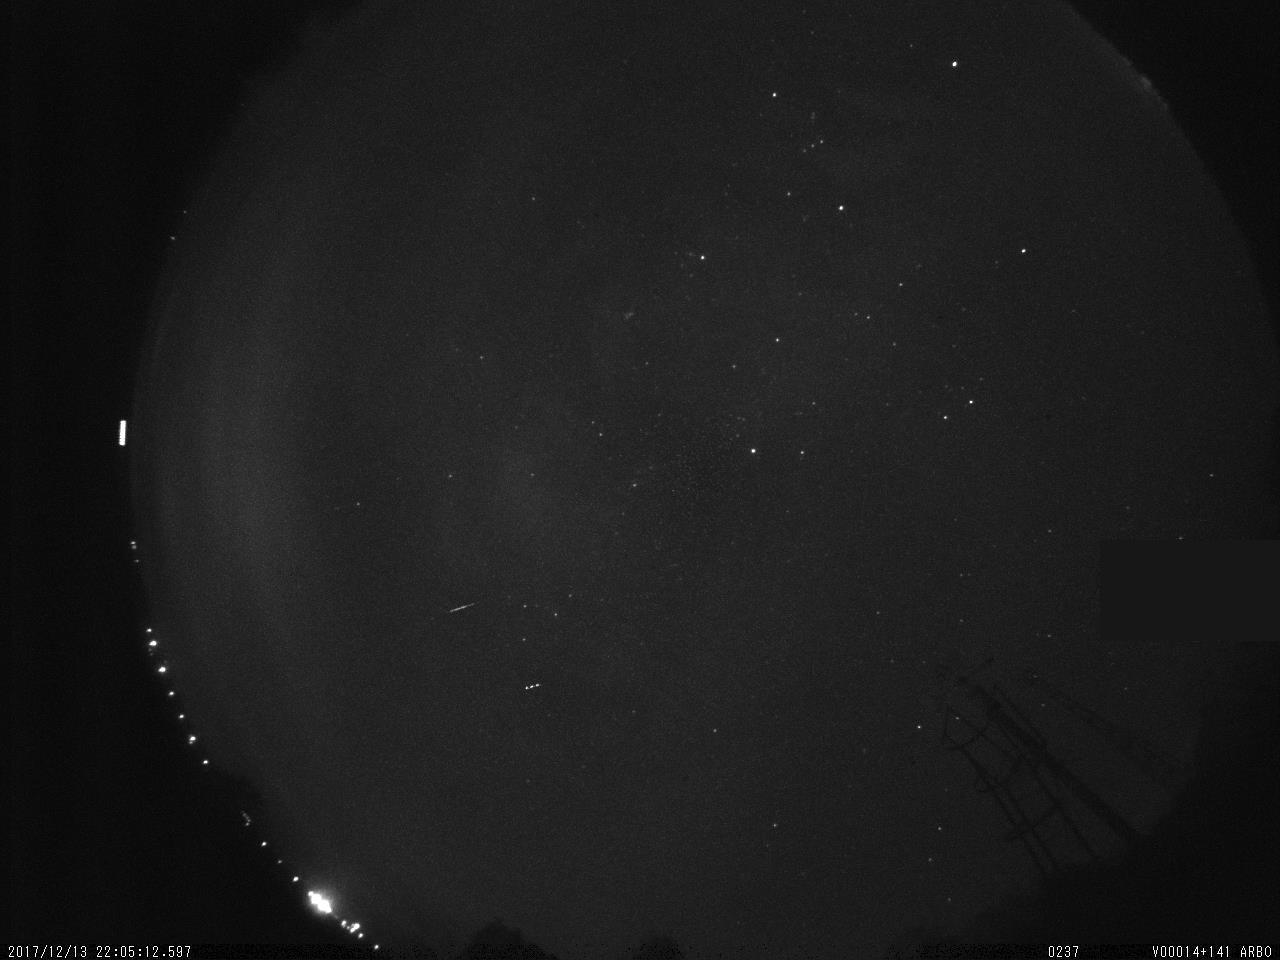meteor: (442, 596, 481, 618)
